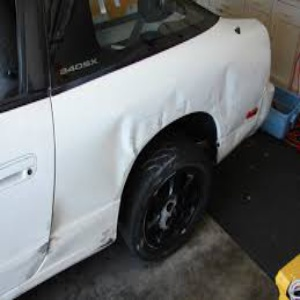bumper_scratch: (184, 64, 238, 127)
